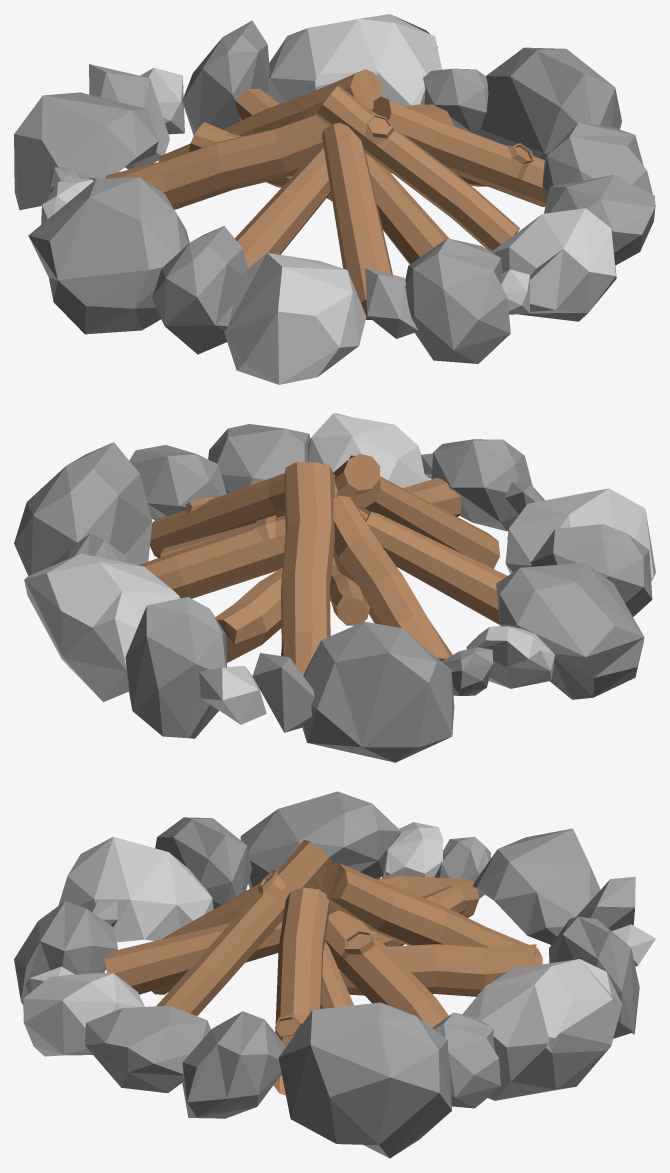
The model's file is cave_campfire.glb.
3 views of the same model, one above another, from view 1: azimuth 30°, elevation 25°; view 2: azimuth 150°, elevation 25°; view 3: azimuth 270°, elevation 25° (orthographic).
Parts seen in each view (by area): view 1: PP_Campfire_01; view 2: PP_Campfire_01; view 3: PP_Campfire_01.
Boxes of the visible parts, x1,y1,x2,y2 form: PP_Campfire_01: [14, 14, 655, 384]; PP_Campfire_01: [14, 413, 655, 762]; PP_Campfire_01: [14, 791, 655, 1158].
Size of the model in its own units: 4.4 by 1.4 by 4.23.
1 material, 1 textured.
